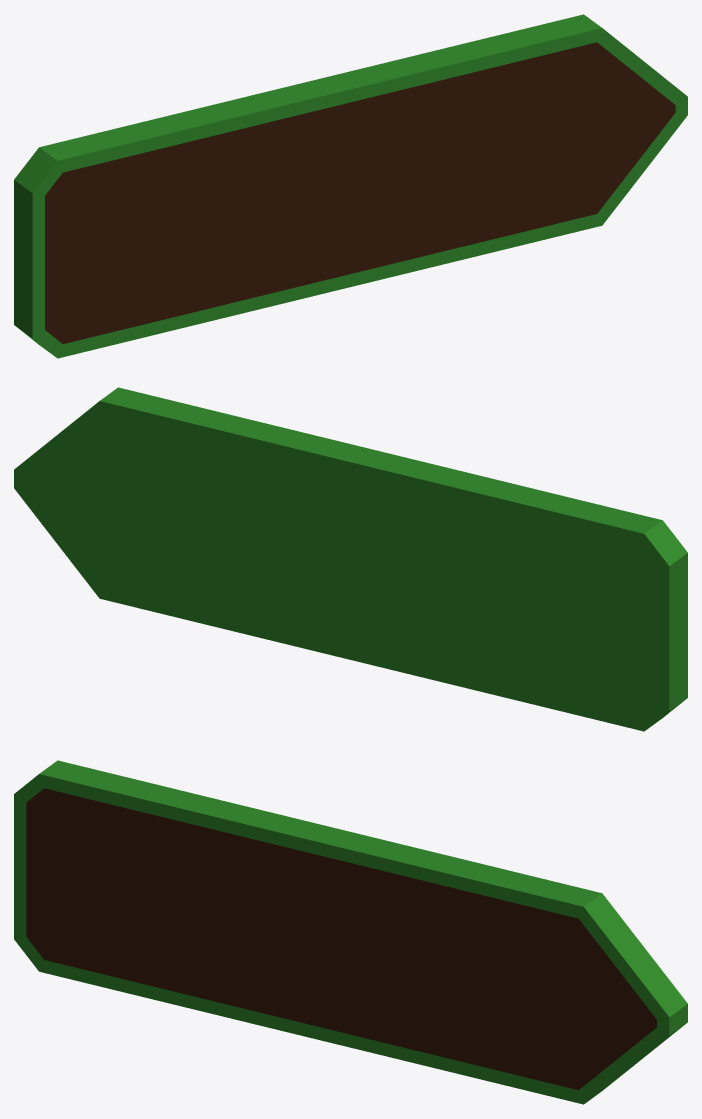
Rendered from Sign.FBX.
3 views of the same model, one above another, from view 1: azimuth 30°, elevation 25°; view 2: azimuth 150°, elevation 25°; view 3: azimuth 330°, elevation 25° (orthographic).
Parts seen in each view (by area): view 1: Box073; view 2: Box073; view 3: Box073.
Boxes of the visible parts, bbox=[...] form: Box073: bbox=[14, 14, 687, 358]; Box073: bbox=[14, 387, 687, 731]; Box073: bbox=[14, 760, 687, 1104].
Bounding box in the file's own units: 0.8155 × 0.2351 × 0.04.
